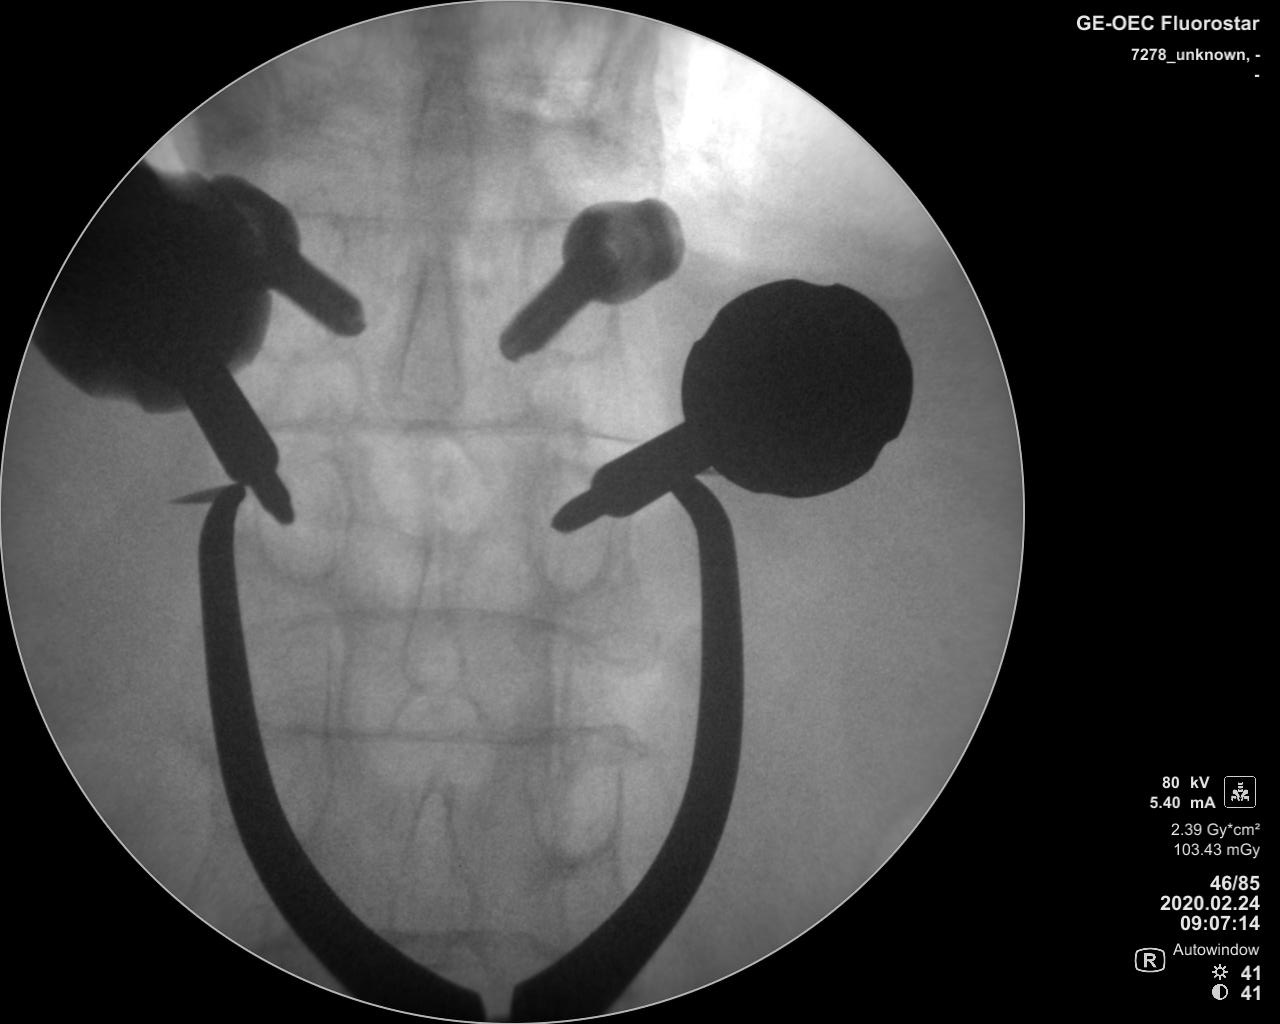eyes: (525, 737, 628, 867), (253, 450, 352, 583), (520, 459, 616, 594), (521, 223, 611, 360)
line: (249, 609, 614, 650), (261, 409, 629, 445), (265, 721, 620, 753), (296, 204, 567, 235)
nose: (386, 760, 478, 969), (394, 509, 472, 695), (385, 248, 463, 421), (401, 30, 476, 200)
